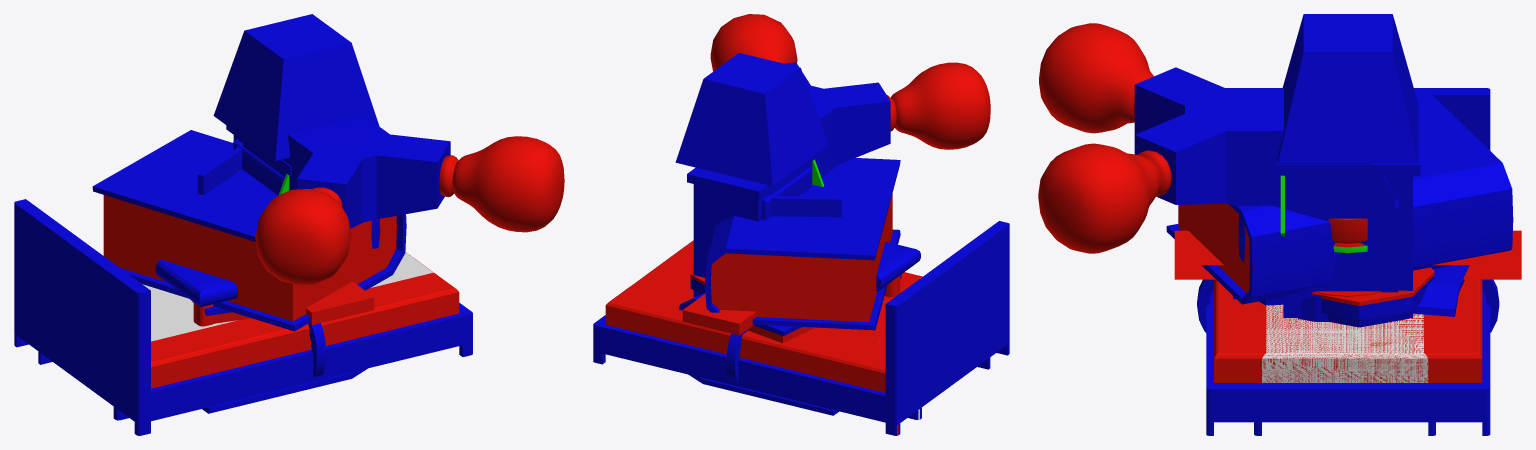
File: AllModels.glb
The picture shows the model from 3 angles, left to right: view 1: azimuth 30°, elevation 25°; view 2: azimuth 150°, elevation 25°; view 3: azimuth 270°, elevation 25°; orthographic projection. The views are drawn at different scales.
Visible parts, largest first — view 1: Double_Bed, TableLight, BookStack, StandingLamp, single_bed, Big_table, BezierCircle, Closet_Closed, Closet_Open; view 2: Double_Bed, BookStack, TableLight, StandingLamp, single_bed, Closet_Closed, BezierCircle, Big_table, Closet_Open, Circle; view 3: TableLight, Double_Bed, BookStack, StandingLamp, single_bed, BezierCircle, Closet_Closed, Circle, Chair2, Chair1, Stool, Monitor.
Part boxes in pixels (x1=…): Double_Bed: x1=14, y1=199, x2=472, y2=435; TableLight: x1=243, y1=116, x2=564, y2=285; BookStack: x1=92, y1=130, x2=406, y2=413; StandingLamp: x1=213, y1=14, x2=379, y2=160; single_bed: x1=38, y1=216, x2=433, y2=420; Big_table: x1=155, y1=260, x2=237, y2=326; BezierCircle: x1=306, y1=281, x2=374, y2=376; Closet_Closed: x1=226, y1=125, x2=291, y2=195; Closet_Open: x1=197, y1=146, x2=242, y2=195; Double_Bed: x1=593, y1=221, x2=1009, y2=435; BookStack: x1=679, y1=158, x2=901, y2=415; TableLight: x1=710, y1=14, x2=990, y2=195; StandingLamp: x1=675, y1=53, x2=828, y2=186; single_bed: x1=630, y1=235, x2=990, y2=419; Closet_Closed: x1=687, y1=154, x2=817, y2=296; BezierCircle: x1=682, y1=294, x2=756, y2=382; Big_table: x1=876, y1=241, x2=920, y2=297; Closet_Open: x1=771, y1=196, x2=841, y2=217; Circle: x1=690, y1=159, x2=824, y2=294; TableLight: x1=1038, y1=23, x2=1398, y2=318; Double_Bed: x1=1206, y1=88, x2=1490, y2=435; BookStack: x1=1166, y1=90, x2=1513, y2=316; StandingLamp: x1=1278, y1=14, x2=1418, y2=163; single_bed: x1=1254, y1=88, x2=1435, y2=435; BezierCircle: x1=1174, y1=230, x2=1521, y2=332; Closet_Closed: x1=1275, y1=121, x2=1420, y2=317; Circle: x1=1238, y1=175, x2=1434, y2=327; Chair2: x1=1298, y1=199, x2=1398, y2=319; Chair1: x1=1298, y1=187, x2=1348, y2=300; Stool: x1=1328, y1=218, x2=1367, y2=253; Monitor: x1=1301, y1=295, x2=1329, y2=321.
Size of the model in its own units: 9.75 by 7.6 by 9.61.
